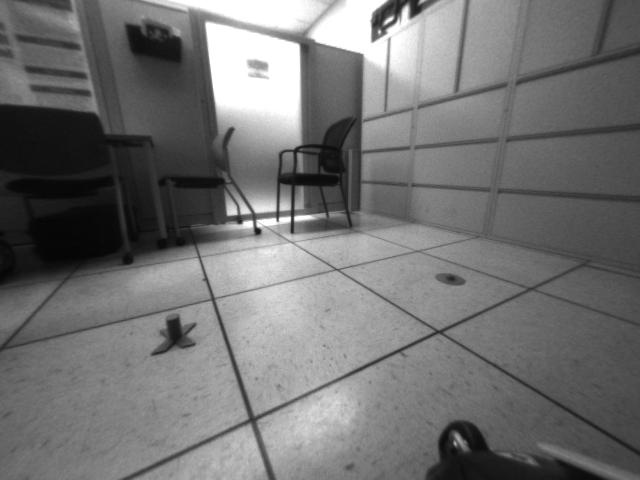X: (150, 313, 196, 356)
